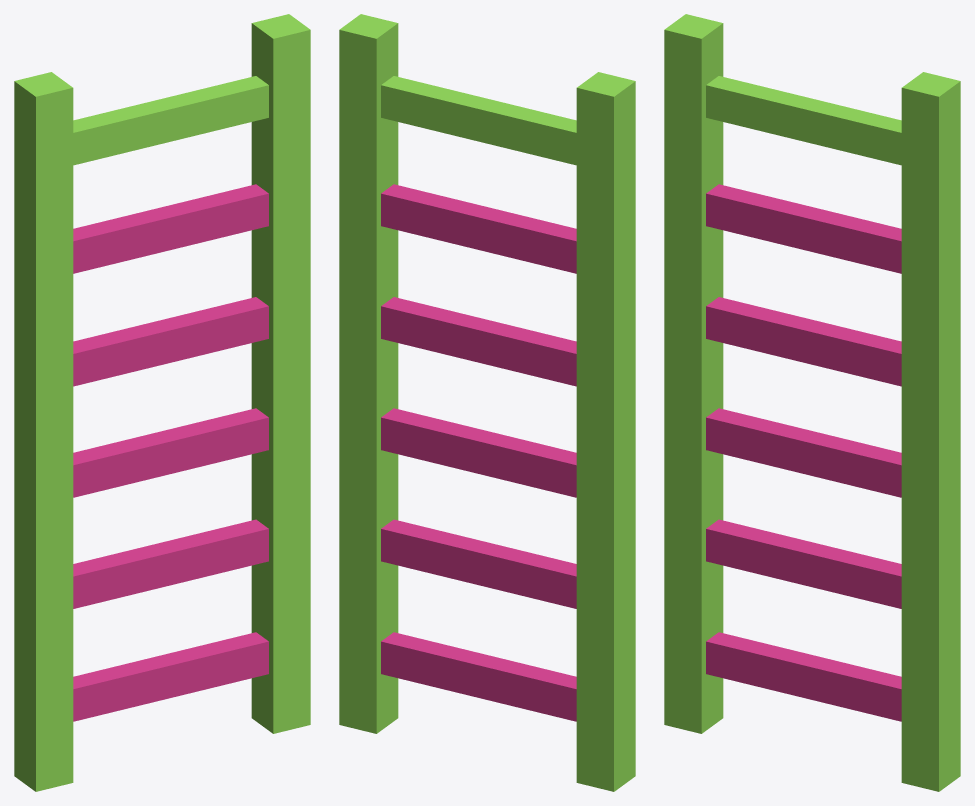
Rendered from escada.fbx.
The picture shows the model from 3 angles, left to right: view 1: azimuth 30°, elevation 25°; view 2: azimuth 150°, elevation 25°; view 3: azimuth 330°, elevation 25°; orthographic projection.
Visible parts, largest first — view 1: Escada; view 2: Escada; view 3: Escada.
Part boxes in pixels (x1=…): Escada: x1=14, y1=14, x2=310, y2=791; Escada: x1=339, y1=14, x2=635, y2=791; Escada: x1=664, y1=14, x2=960, y2=791.
Bounding box in the file's own units: 519 × 1254 × 70.54.
